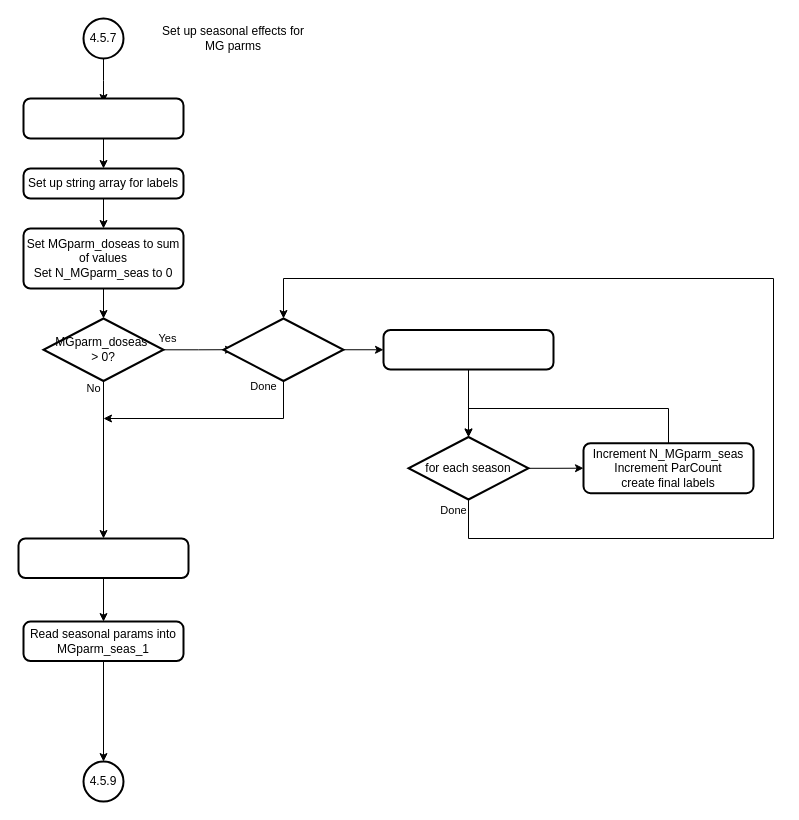
Image size: 799x820. Some labels were removed from this diagram. Each missing label, with the centre of its shape:
"For j = 1 to 10" goes at point 283,349.
"Output MGparm_seas_effects" goes at point 103,557.
"Read in 10 values for seasonal effects" goes at point 103,118.
"Set MGparm_seas_effects(j) = index base parameter" goes at point 468,349.
